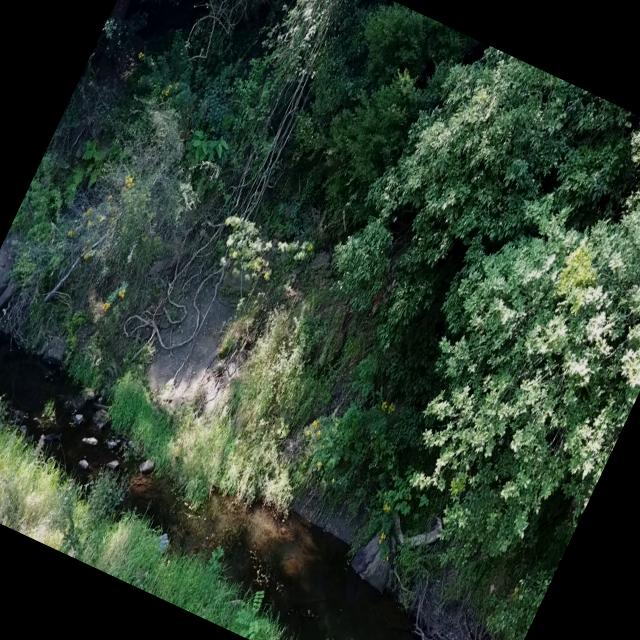Mysore-Thorn-Weed: (178, 119, 237, 183)
